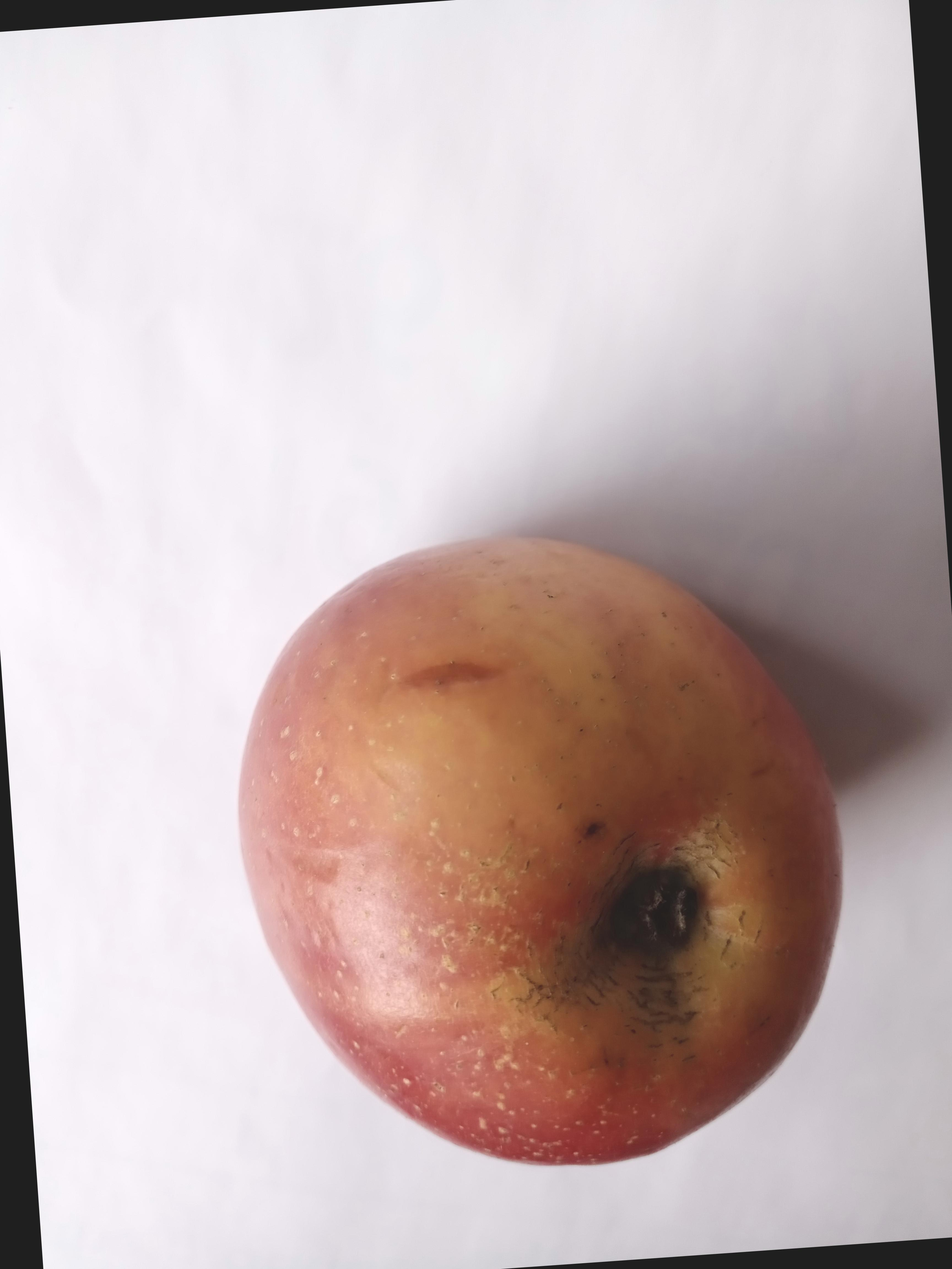Apple Ripe: (128, 528, 828, 1269)
